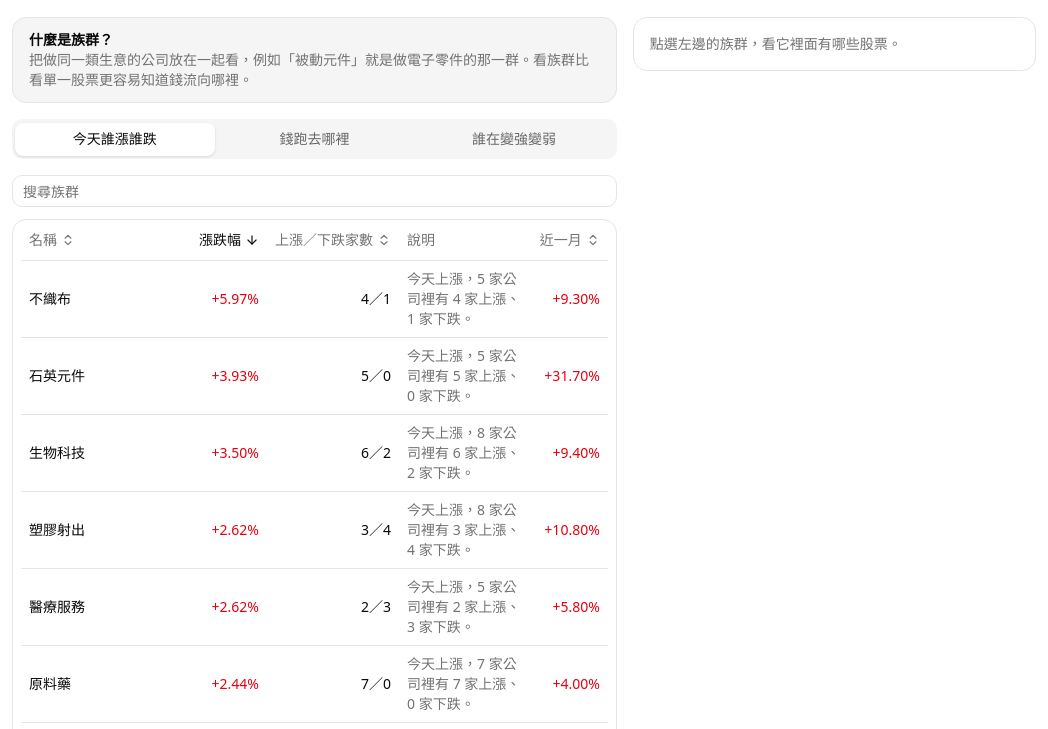
it: SectorsScreen › from md up › keeps the table and shows the stocks in a pane beside it, with the row highlighted
Check: the text "點選左邊的族群，看它裡面有哪些股票。" is shown, box [633,17,1036,71]
Step 1. Click the button "石英元件" → (57, 376), box [29,366,85,386]
(page scrolled)
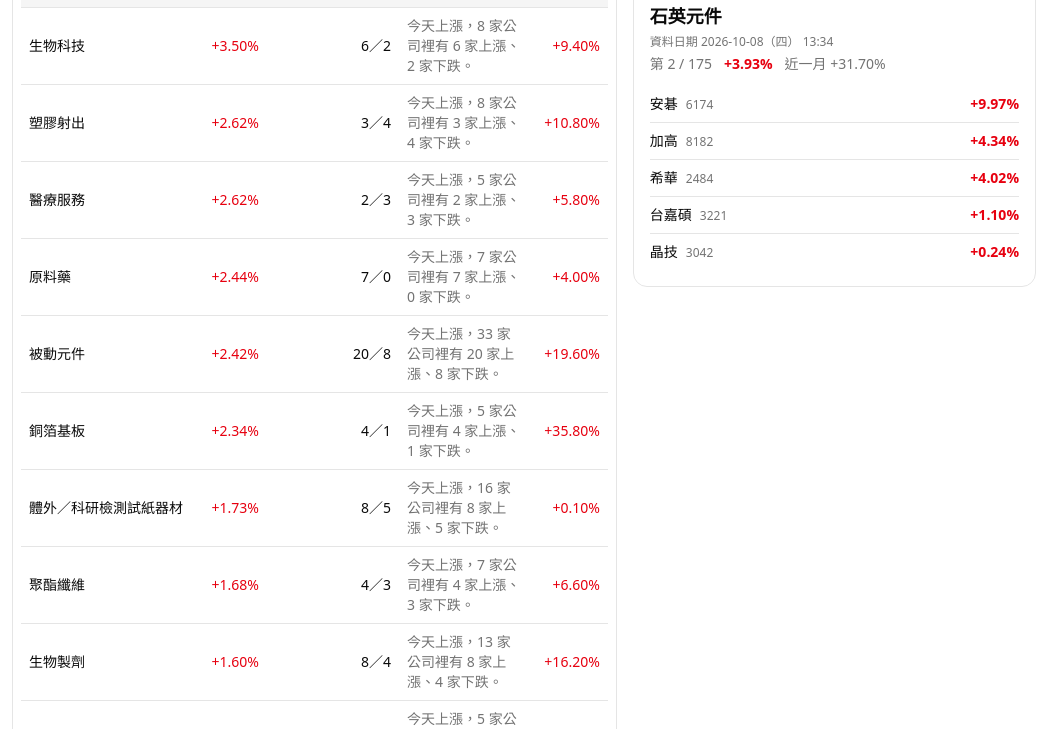
Check: the list named "成分股" is shown, box [650,86,1019,270]
Check: the heading "石英元件" is shown, box [650,4,722,28]
Check: the text "點選左邊的族群，看它裡面有哪些股票。" is gone
# Choosing another sector swaps the pane without leaving the table.
Step 2. Click the button "被動元件" → (57, 354), box [29,344,85,364]
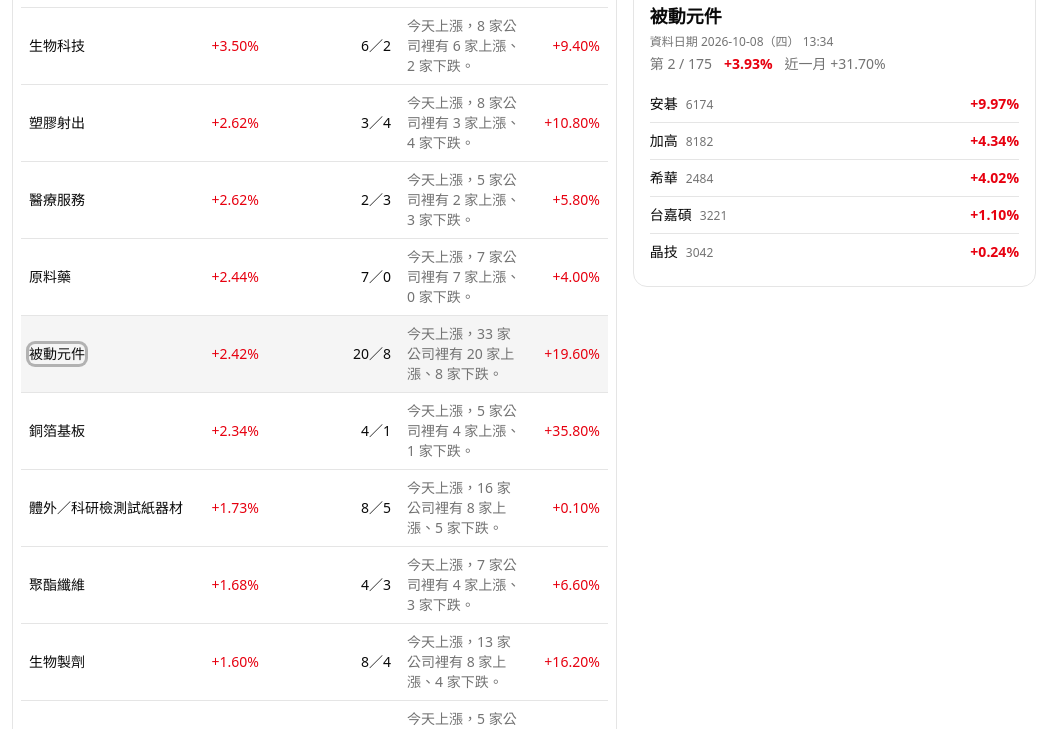
Check: the heading "被動元件" is shown, box [650,4,722,28]
